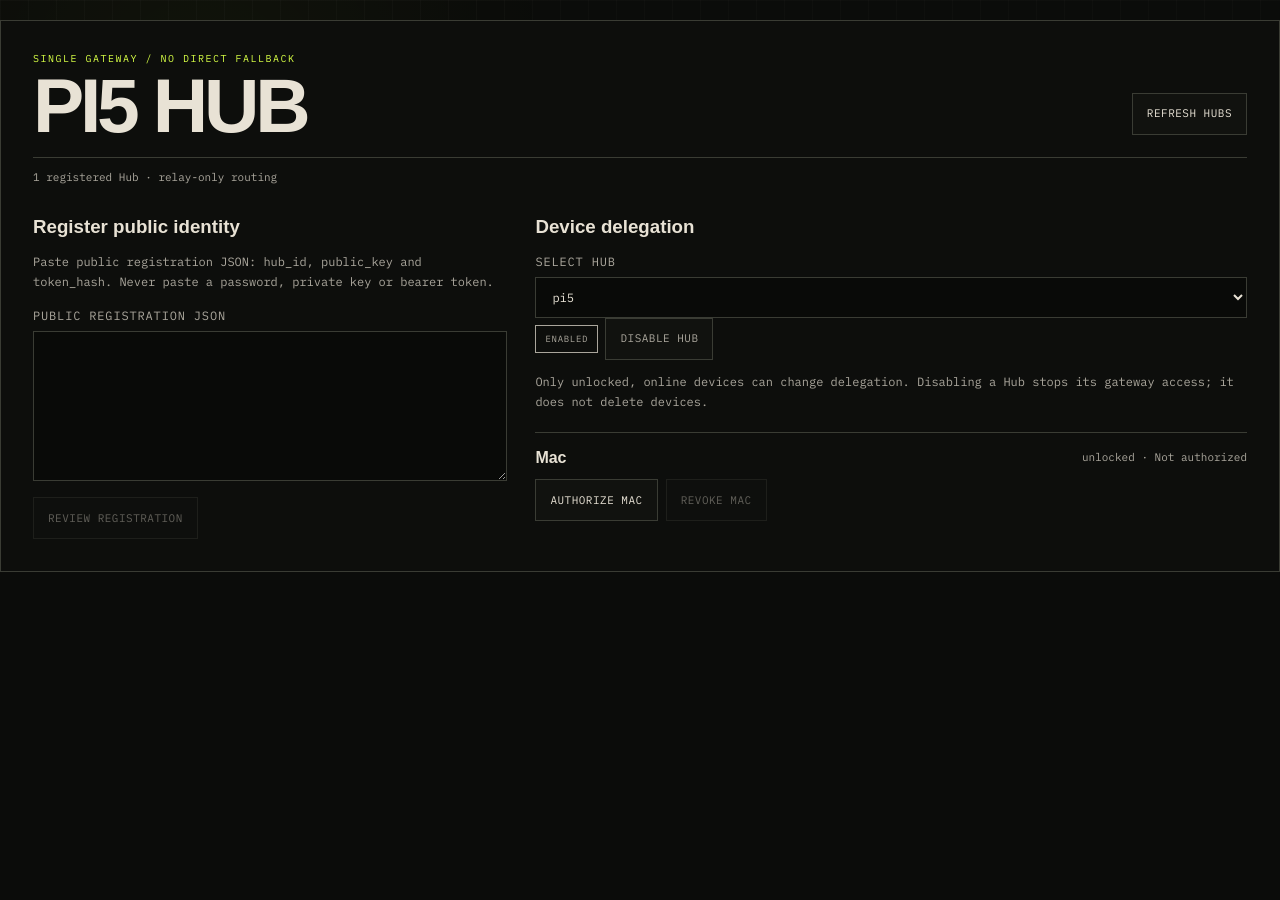
Scenario: reports uncertain mutations without retrying
The image size is (1280, 900).
Click the button "Authorize Mac" at (597, 500), box [535, 479, 658, 521]
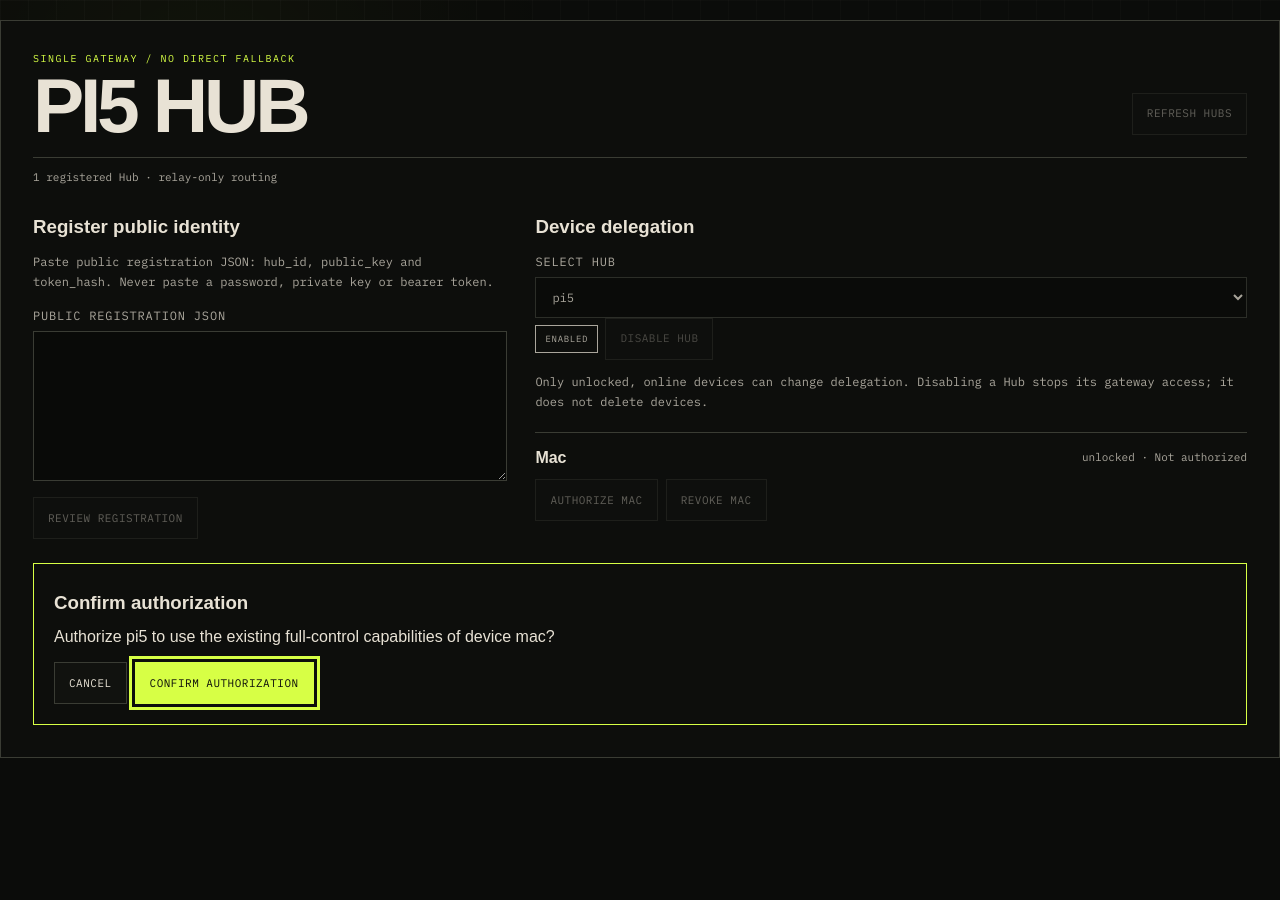
Click the button "Confirm authorization" at (224, 683), box [135, 662, 314, 704]
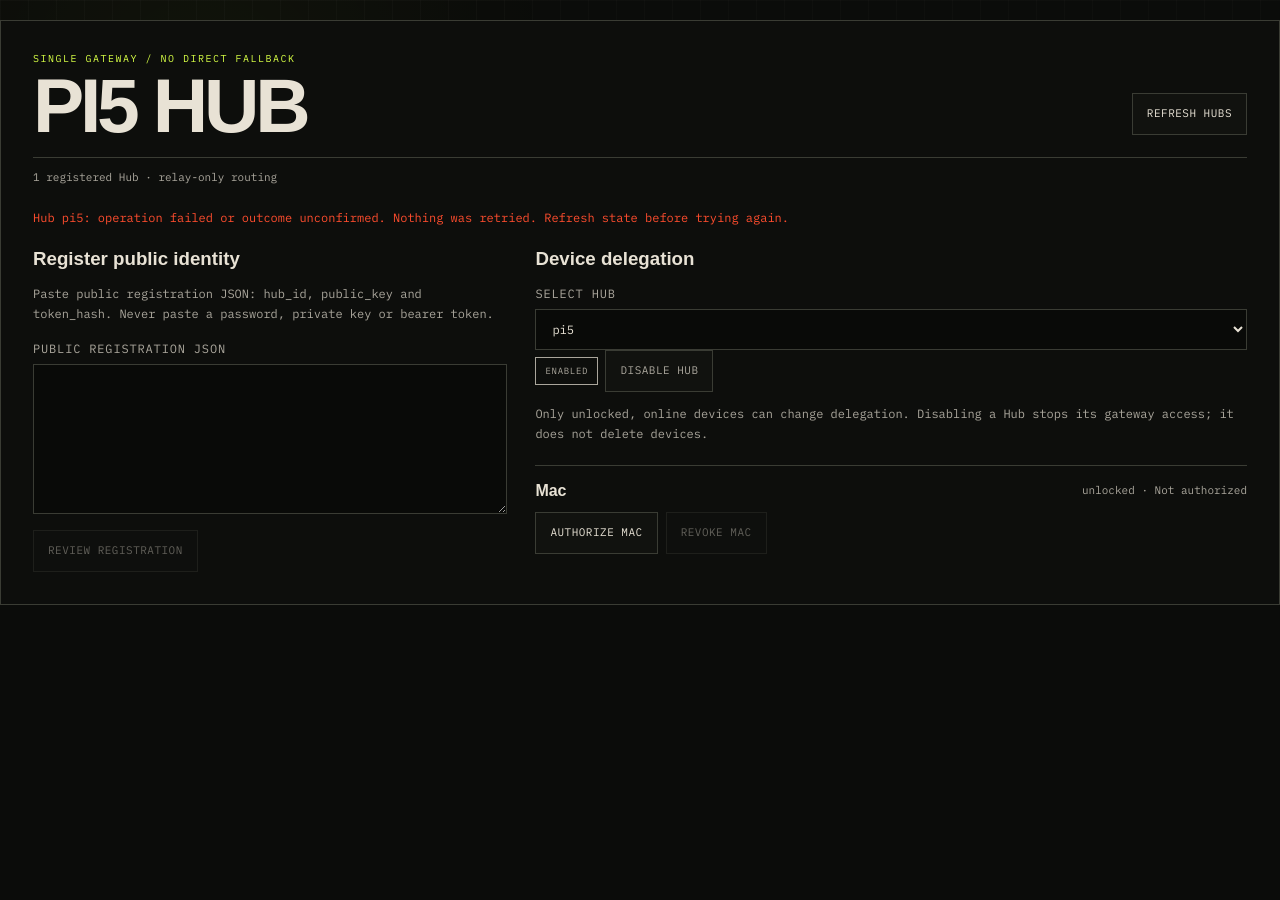
Expected: the 2nd message shows "Nothing was retried", [33, 210, 789, 225]
